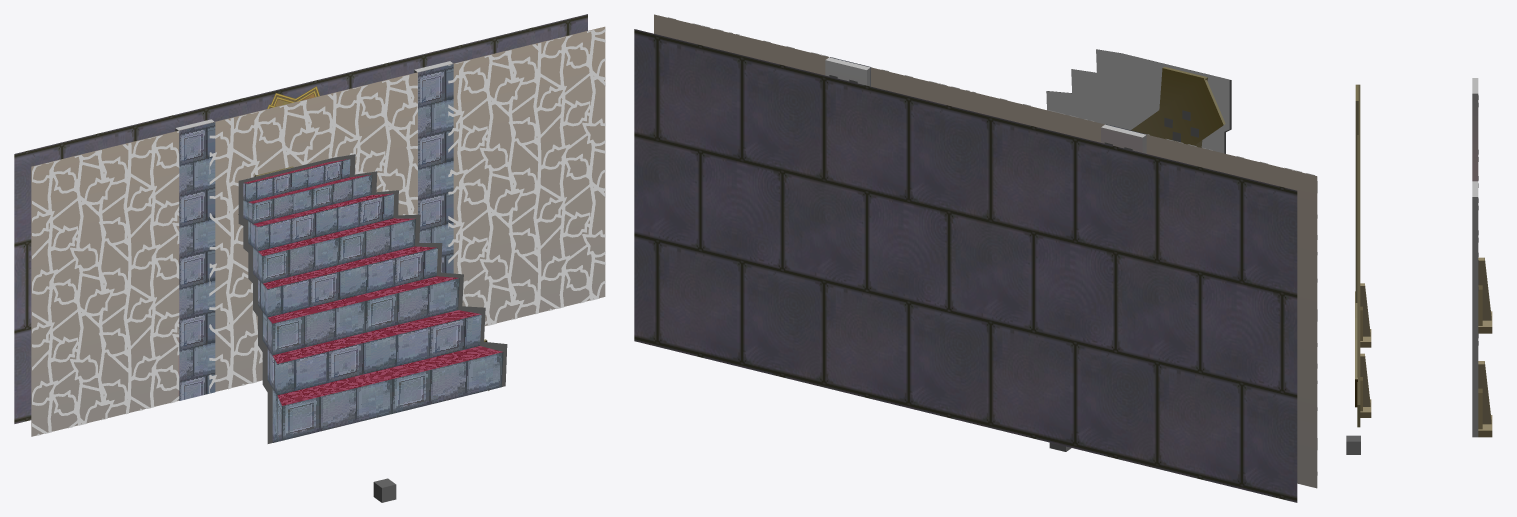
The model's file is stg_08_5.dae.
The picture shows the model from 3 angles, left to right: view 1: azimuth 30°, elevation 25°; view 2: azimuth 150°, elevation 25°; view 3: azimuth 270°, elevation 25°; orthographic projection. The views are drawn at different scales.
Visible parts, largest first — view 1: polySurface149_q00046, polySurface98_q00001_part1, polySurface143_q00020, polySurface144_q00021, C_kabe, polySurface98_q00001_part0, polySurface98_q00002; view 2: C_kabe, polySurface149_q00046, polySurface98_q00019, polySurface1253_q00011, polySurface150_q00047, polySurface1254_q00012; view 3: polySurface150_q00047, polySurface1253_q00011, polySurface1254_q00012, pCube24_q00026, pCube24_q00029, pCube24_q00018, pCube24_q00015, polySurface1250_q00010, pCube161_q00000, pCube23_q00028, pCube22_q00027, pCube23_q00025 (+1 smaller).
Part boxes in pixels (x1=…): polySurface149_q00046: x1=31, y1=26, x2=605, y2=436; polySurface98_q00001_part1: x1=243, y1=159, x2=503, y2=442; polySurface143_q00020: x1=32, y1=29, x2=605, y2=435; polySurface144_q00021: x1=179, y1=64, x2=453, y2=400; C_kabe: x1=14, y1=14, x2=587, y2=423; polySurface98_q00001_part0: x1=244, y1=159, x2=502, y2=405; polySurface98_q00002: x1=238, y1=154, x2=507, y2=443; C_kabe: x1=634, y1=29, x2=1297, y2=502; polySurface149_q00046: x1=654, y1=14, x2=1317, y2=488; polySurface98_q00019: x1=1046, y1=49, x2=1229, y2=153; polySurface1253_q00011: x1=1131, y1=77, x2=1225, y2=145; polySurface150_q00047: x1=825, y1=57, x2=1146, y2=153; polySurface1254_q00012: x1=1159, y1=66, x2=1207, y2=147; polySurface150_q00047: x1=1472, y1=78, x2=1478, y2=437; polySurface1253_q00011: x1=1357, y1=84, x2=1360, y2=427; polySurface1254_q00012: x1=1355, y1=84, x2=1358, y2=302; pCube24_q00026: x1=1478, y1=257, x2=1491, y2=320; pCube24_q00029: x1=1478, y1=361, x2=1491, y2=424; pCube24_q00018: x1=1360, y1=283, x2=1370, y2=336; pCube24_q00015: x1=1360, y1=353, x2=1370, y2=406; polySurface1250_q00010: x1=1355, y1=291, x2=1357, y2=407; pCube161_q00000: x1=1346, y1=435, x2=1360, y2=454; pCube23_q00028: x1=1478, y1=388, x2=1482, y2=429; pCube22_q00027: x1=1478, y1=415, x2=1492, y2=437; pCube23_q00025: x1=1478, y1=285, x2=1482, y2=325.
Bounding box in the file's own units: 40 × 23.51 × 10.61.
